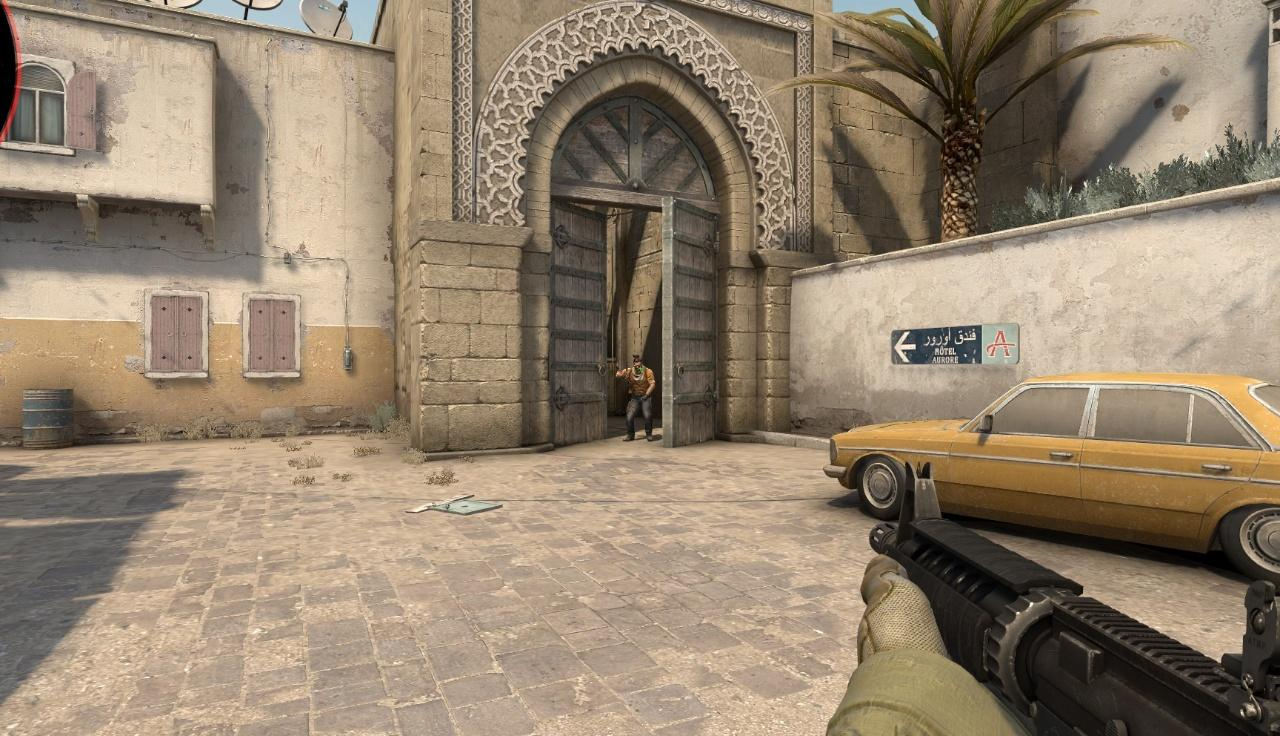rifle: (862, 463, 1280, 736)
tt: (625, 358, 655, 442)
tthead: (633, 358, 643, 373)
